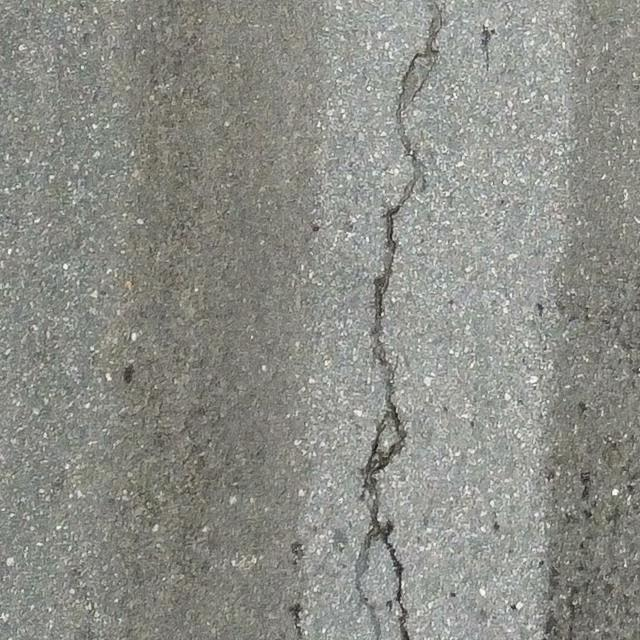LongitudinalCrack: (353, 7, 446, 640)
